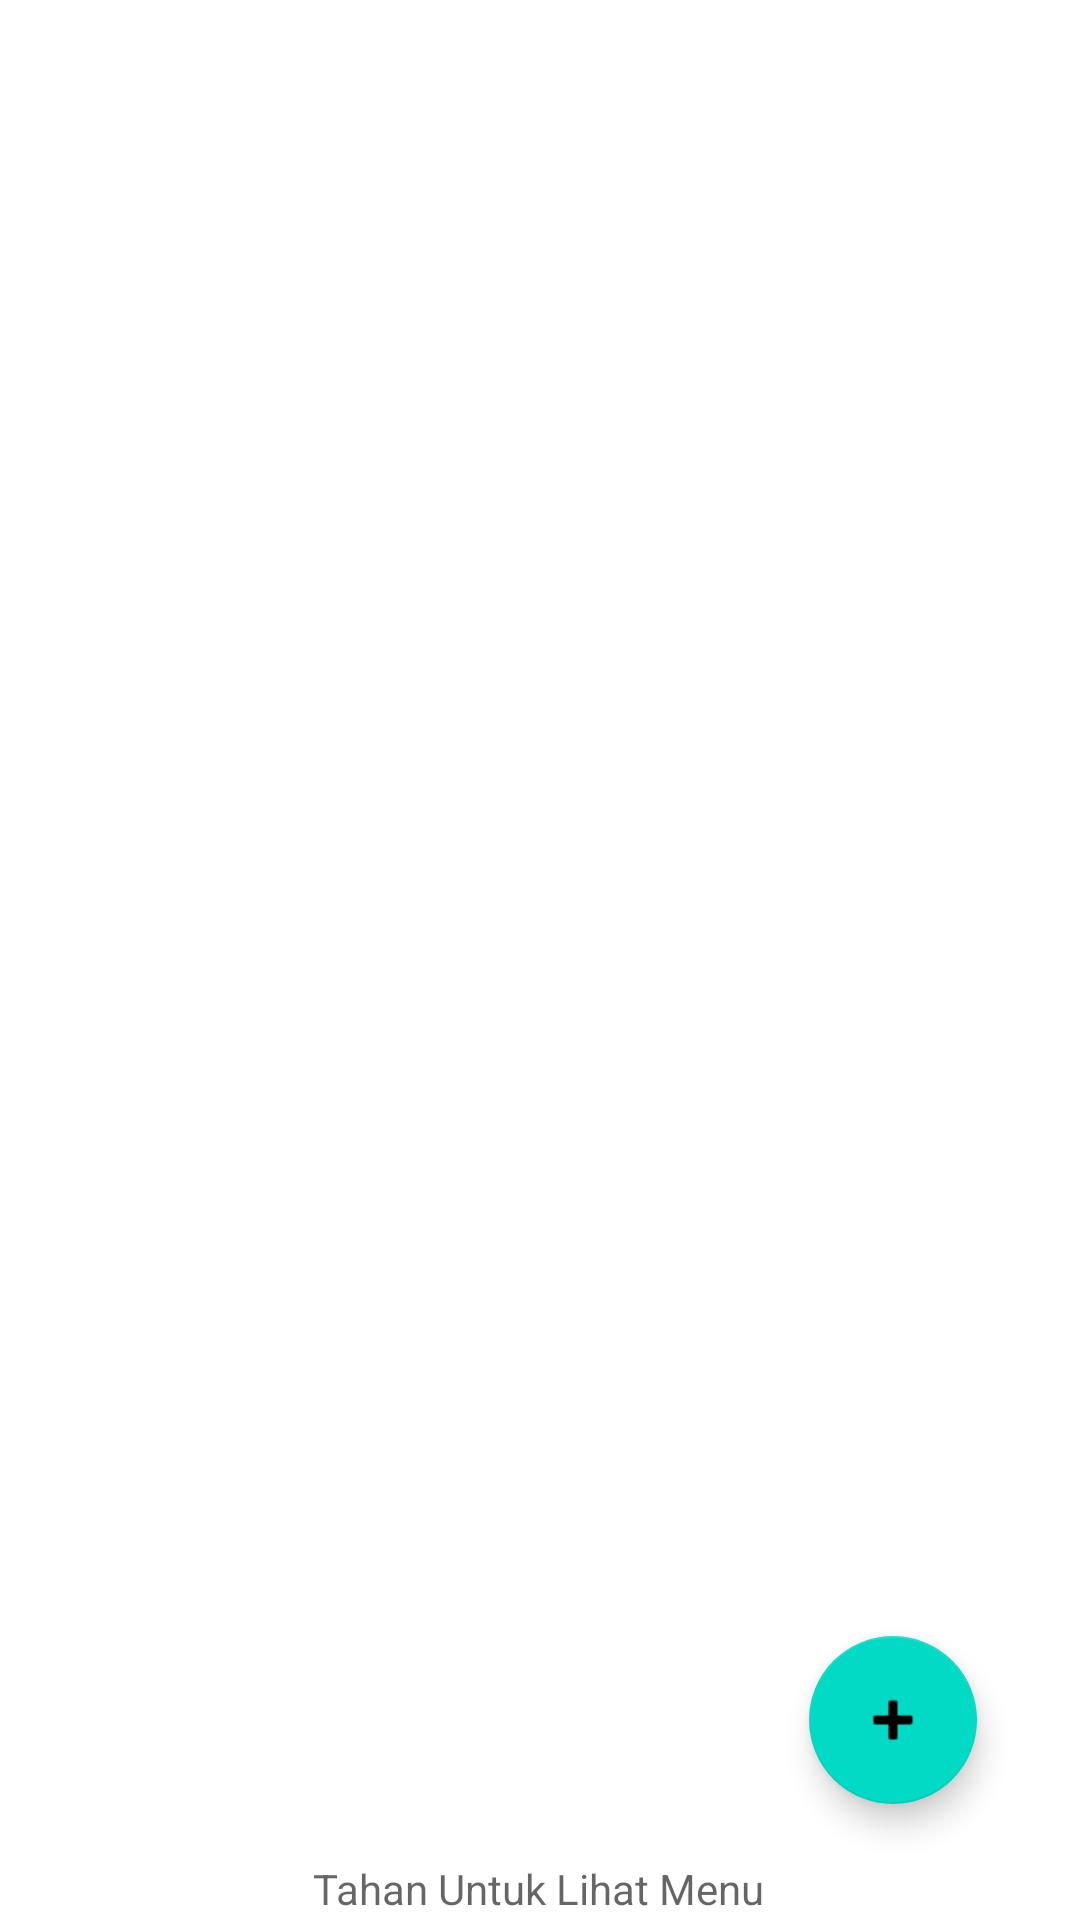

Where icons sit on this 1080 × 1920 app screen, as Rect(x1, y1, x2, y2):
add: Rect(809, 1636, 977, 1804)
